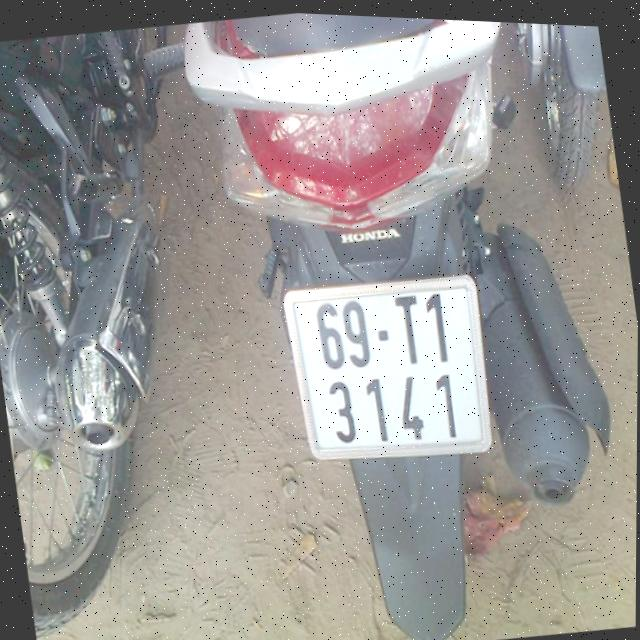motorcycle: (171, 8, 640, 640), (0, 17, 260, 640)
plate: (278, 262, 498, 484)
